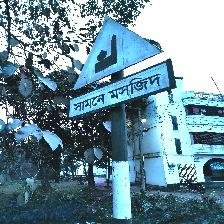Mosque in front: (69, 16, 176, 121)
